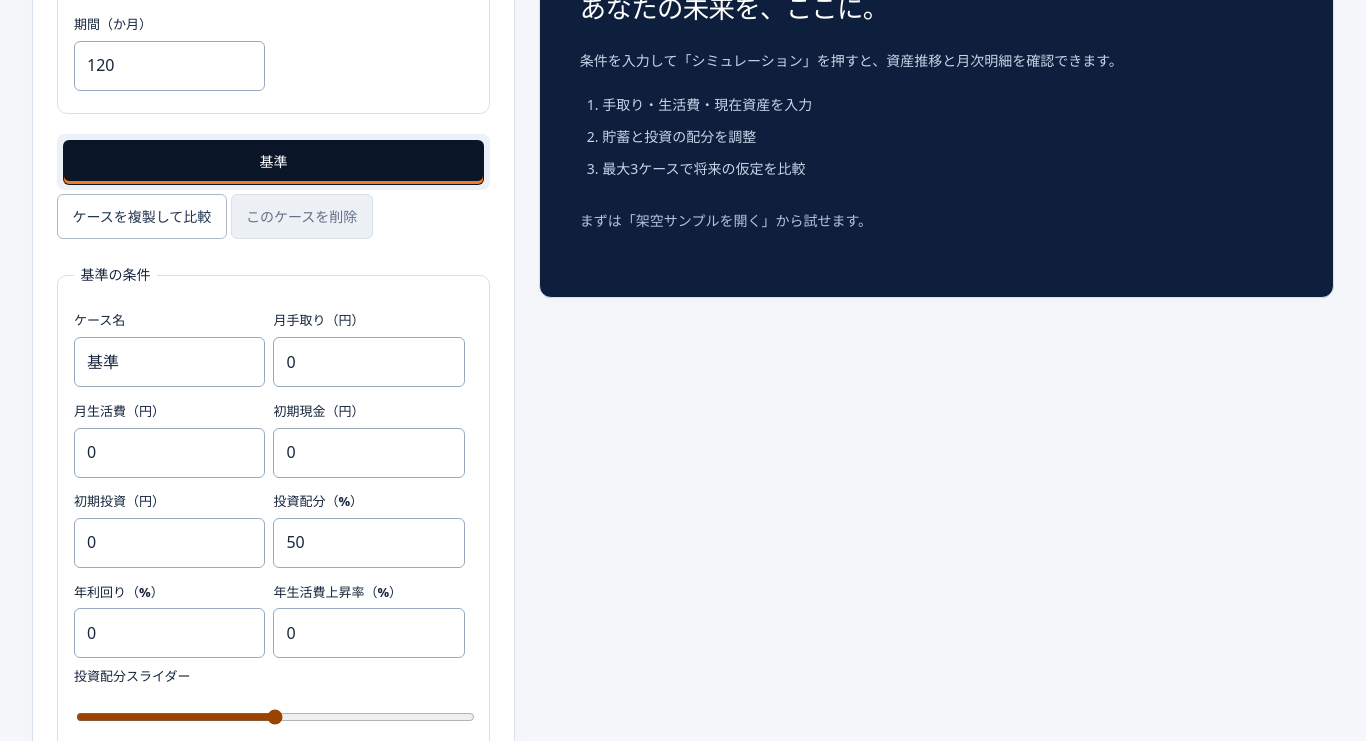
Scenario: editing and persistence › never declares a failed save successful and binds request to account
This screenshot has width=1366, height=741.
(page scrolled)
Replace the text in the number field labelled "月手取り（円）" with "100" at point(369, 362), box [273, 337, 465, 387]
(page scrolled)
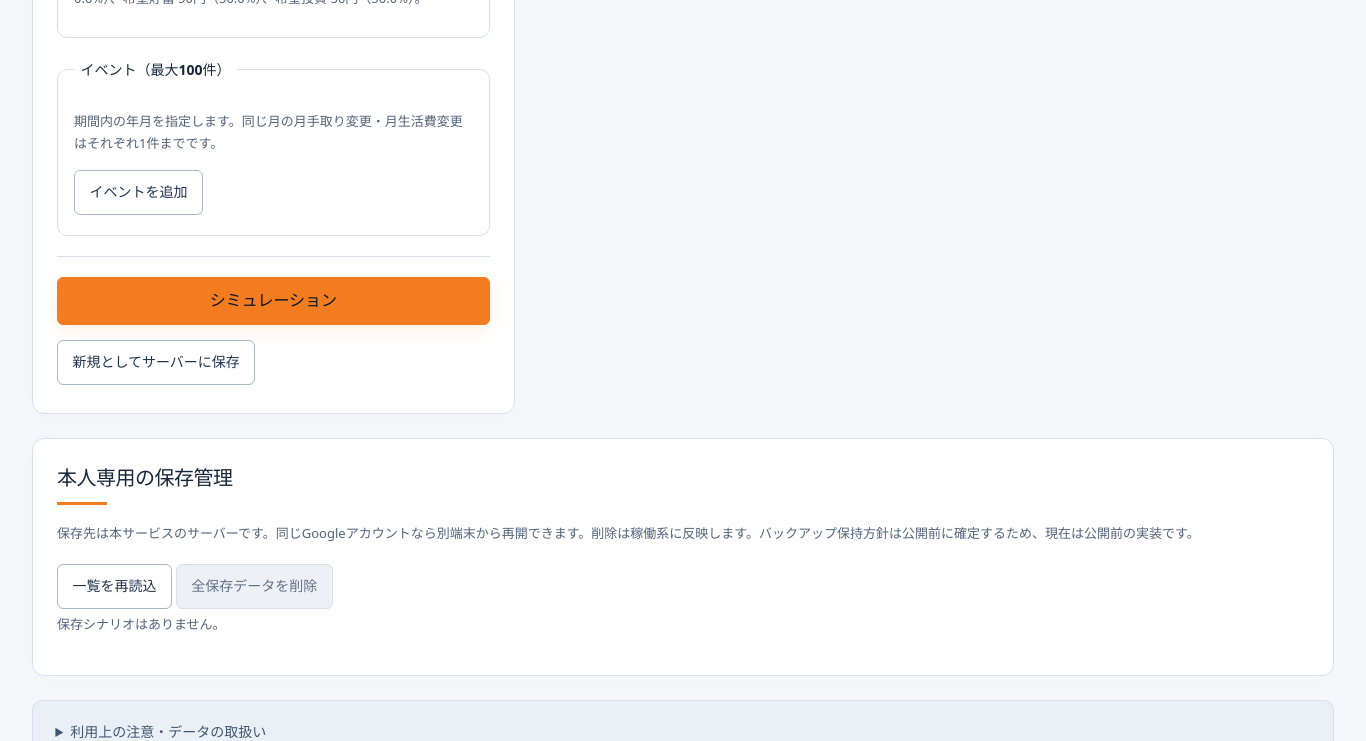
Click the button "新規としてサーバーに保存".
click(156, 362)  # box [57, 340, 255, 385]
(page scrolled)
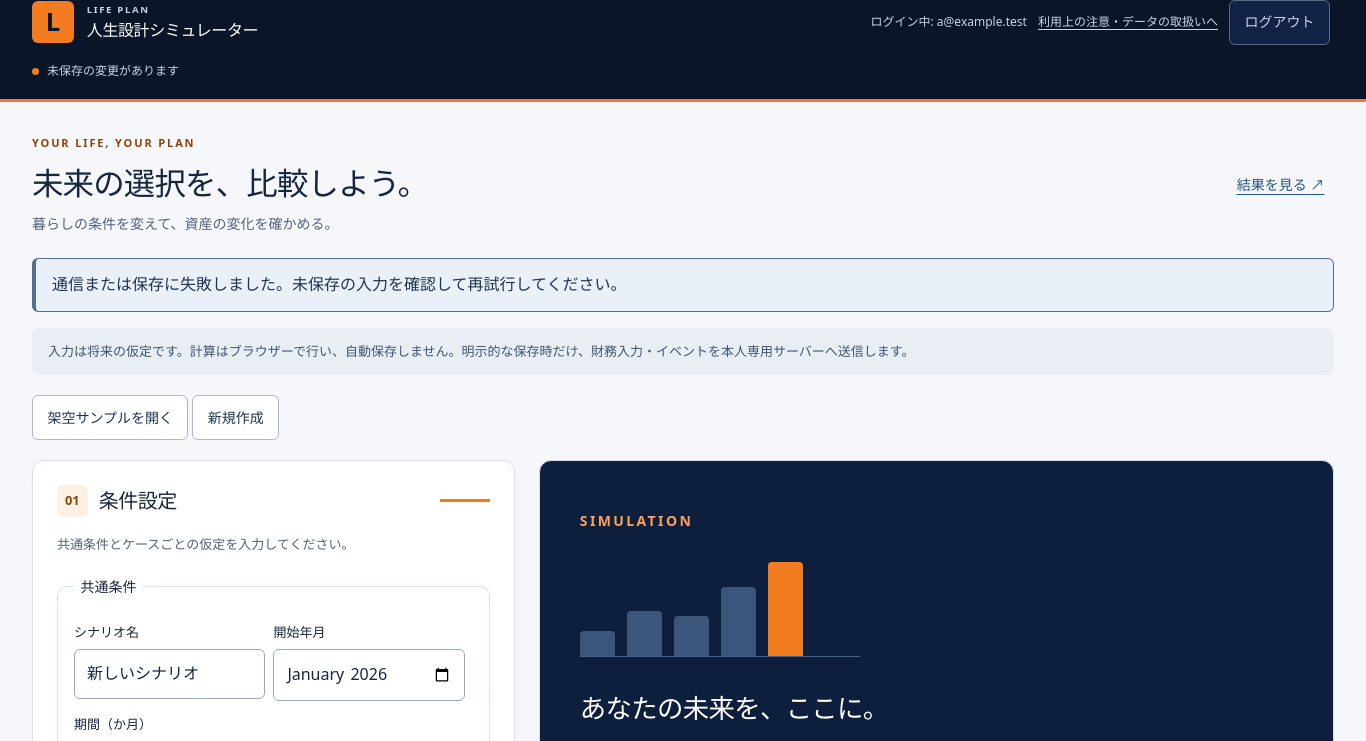
Result: the text "未保存の変更があります" is shown at [47, 62, 179, 79]
Result: the text "通信または保存に失敗しました。未保存の入力を確認して再試行してください。" is shown at [32, 258, 1334, 312]
